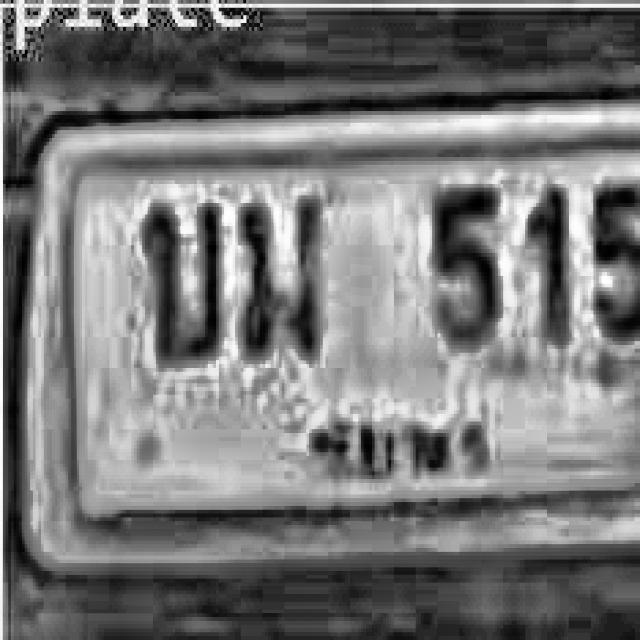license-plate: (26, 96, 640, 567)
